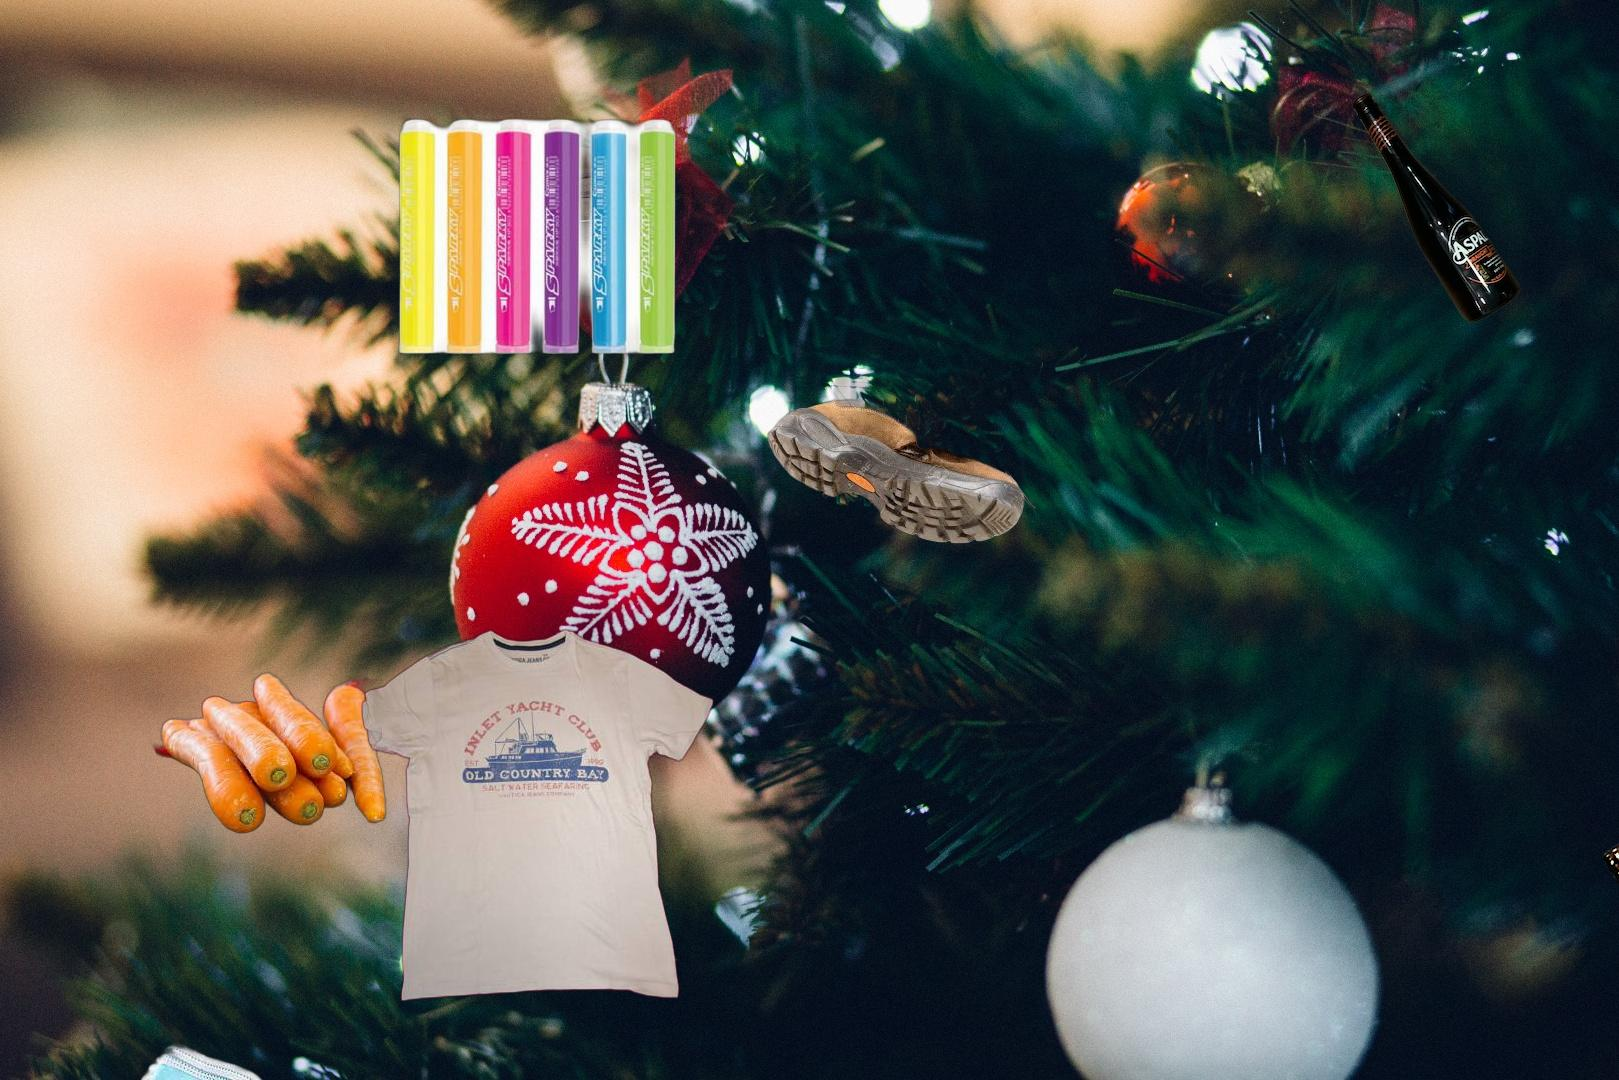biological: (127, 670, 401, 837)
clothes: (359, 624, 717, 1006)
glass: (1348, 87, 1525, 329), (1599, 838, 1619, 1050)
penholder: (395, 115, 682, 357)
shoes: (765, 376, 1036, 546), (486, 140, 677, 307)
trash: (125, 1040, 272, 1080)
